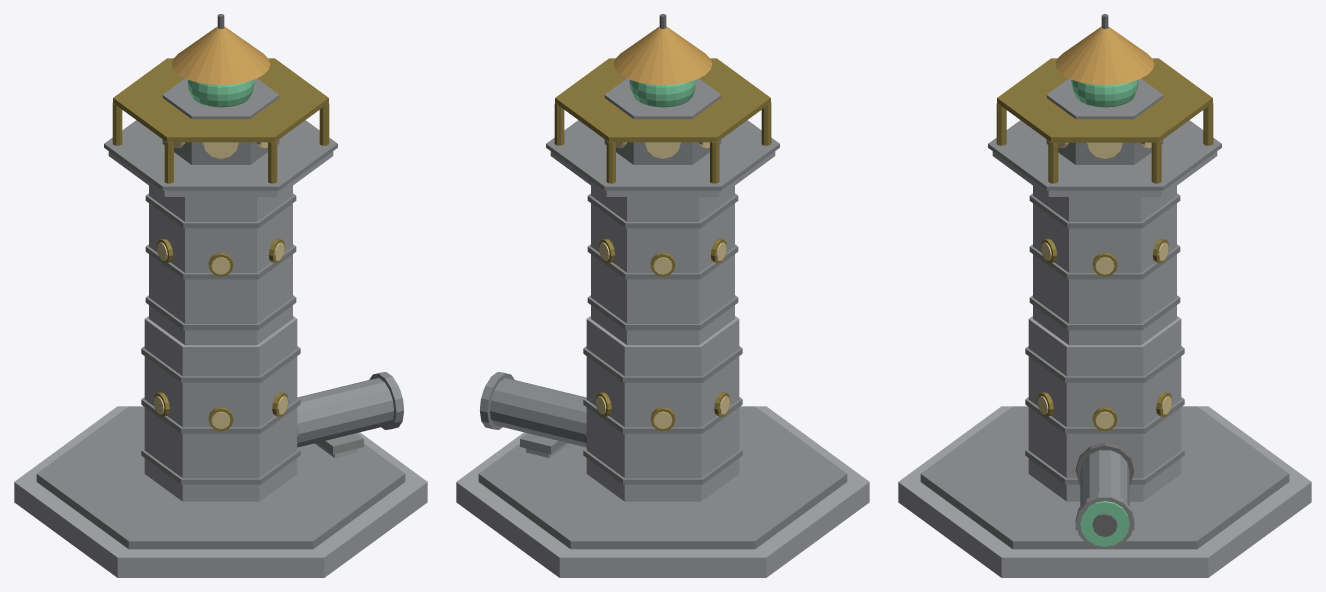
Rendered from beacon_s2_50.glb.
3 renders of one model, left to right at view 1: azimuth 30°, elevation 25°; view 2: azimuth 150°, elevation 25°; view 3: azimuth 270°, elevation 25°, orthographic.
Visible parts, largest first — view 1: BC_BaseCap, BC_Shaft1, BC_Shaft2, BC_Base, BC_RailRing_Top, BC_PlatformTrim, BC_PipeStub_0, BC_Dome, BC_Lantern_Room, BC_PlatformBase, BC_SignalLamp, BC_Shaft1_Ring_2 (+7 smaller); view 2: BC_BaseCap, BC_Shaft1, BC_Shaft2, BC_Base, BC_RailRing_Top, BC_PlatformTrim, BC_PipeStub_0, BC_Dome, BC_Lantern_Room, BC_PlatformBase, BC_SignalLamp, BC_Shaft1_Ring_2 (+7 smaller); view 3: BC_BaseCap, BC_Shaft1, BC_Shaft2, BC_Base, BC_RailRing_Top, BC_PlatformTrim, BC_Dome, BC_Lantern_Room, BC_PipeStub_0, BC_PlatformBase, BC_SignalLamp, BC_Flange_0_led (+8 smaller).
Boxes of the visible parts, x1=… form: BC_BaseCap: x1=36, y1=406, x2=405, y2=549; BC_Shaft1: x1=144, y1=316, x2=297, y2=501; BC_Shaft2: x1=149, y1=186, x2=292, y2=345; BC_Base: x1=14, y1=406, x2=427, y2=577; BC_RailRing_Top: x1=113, y1=58, x2=328, y2=142; BC_PlatformTrim: x1=104, y1=120, x2=337, y2=190; BC_PipeStub_0: x1=297, y1=378, x2=393, y2=447; BC_Dome: x1=171, y1=26, x2=270, y2=84; BC_Lantern_Room: x1=162, y1=78, x2=279, y2=164; BC_PlatformBase: x1=108, y1=151, x2=333, y2=196; BC_SignalLamp: x1=187, y1=80, x2=254, y2=107; BC_Shaft1_Ring_2: x1=141, y1=346, x2=300, y2=382; BC_BaseCap: x1=478, y1=406, x2=847, y2=549; BC_Shaft1: x1=586, y1=316, x2=739, y2=501; BC_Shaft2: x1=591, y1=186, x2=734, y2=345; BC_Base: x1=456, y1=406, x2=869, y2=577; BC_RailRing_Top: x1=555, y1=58, x2=770, y2=142; BC_PlatformTrim: x1=546, y1=120, x2=779, y2=190; BC_PipeStub_0: x1=490, y1=378, x2=586, y2=447; BC_Dome: x1=613, y1=26, x2=712, y2=84; BC_Lantern_Room: x1=604, y1=78, x2=721, y2=164; BC_PlatformBase: x1=550, y1=151, x2=775, y2=196; BC_SignalLamp: x1=629, y1=80, x2=696, y2=107; BC_Shaft1_Ring_2: x1=583, y1=346, x2=742, y2=382; BC_BaseCap: x1=920, y1=406, x2=1289, y2=549; BC_Shaft1: x1=1028, y1=316, x2=1181, y2=501; BC_Shaft2: x1=1033, y1=186, x2=1176, y2=345; BC_Base: x1=898, y1=406, x2=1311, y2=577; BC_RailRing_Top: x1=997, y1=58, x2=1212, y2=142; BC_PlatformTrim: x1=988, y1=120, x2=1221, y2=190; BC_Dome: x1=1055, y1=26, x2=1154, y2=85; BC_Lantern_Room: x1=1046, y1=78, x2=1163, y2=164; BC_PipeStub_0: x1=1080, y1=450, x2=1129, y2=505; BC_PlatformBase: x1=992, y1=151, x2=1217, y2=196; BC_SignalLamp: x1=1071, y1=79, x2=1138, y2=107; BC_Flange_0_led: x1=1080, y1=501, x2=1129, y2=546.
Size of the model in its own units: 1.69 by 2.39 by 1.84.
